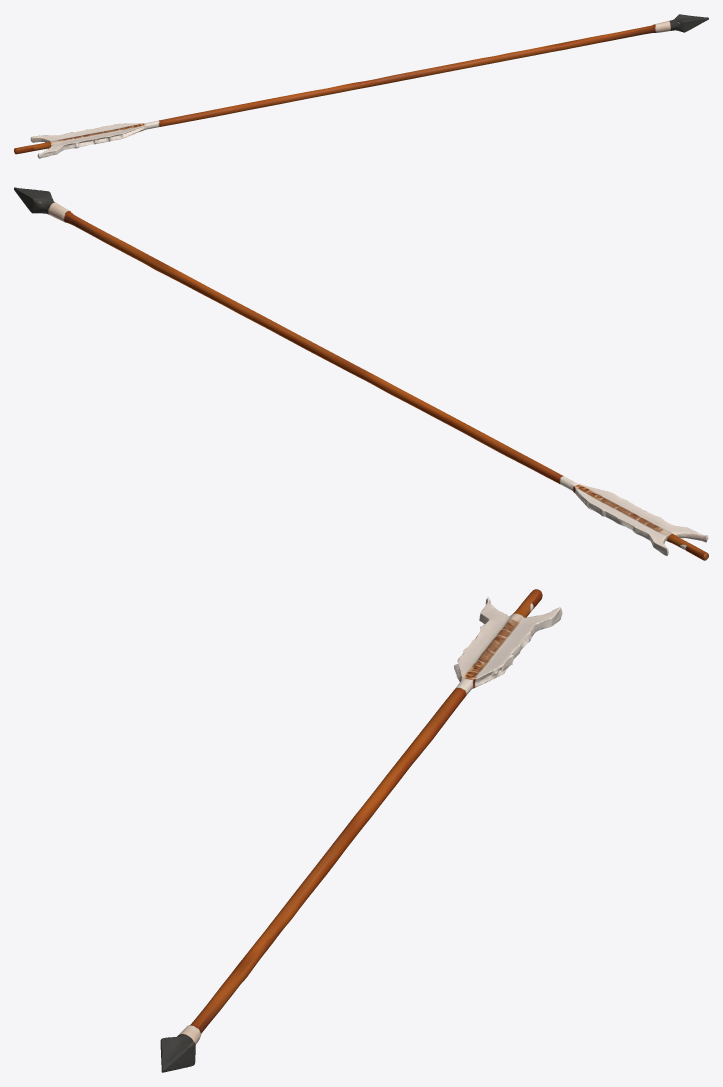
File: arrow2.glb
3 renders of one model, top to bottom at view 1: azimuth 30°, elevation 25°; view 2: azimuth 150°, elevation 25°; view 3: azimuth 270°, elevation 25°, orthographic. The views are drawn at different scales.
Visible parts, largest first — view 1: tripo_node_87329261; view 2: tripo_node_87329261; view 3: tripo_node_87329261.
Part boxes in pixels (x1,y1,x2,y2): tripo_node_87329261: (14,14,708,158); tripo_node_87329261: (14,187,708,560); tripo_node_87329261: (160,589,562,1072).
Bounding box in the file's own units: 0.9628 × 0.0941 × 0.2785.
Materials: 1 (1 with a texture image).
